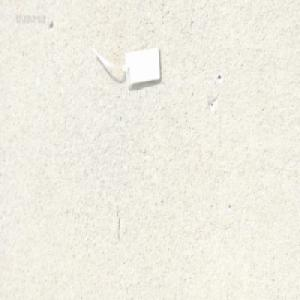LuggageTag: (89, 44, 161, 90)
